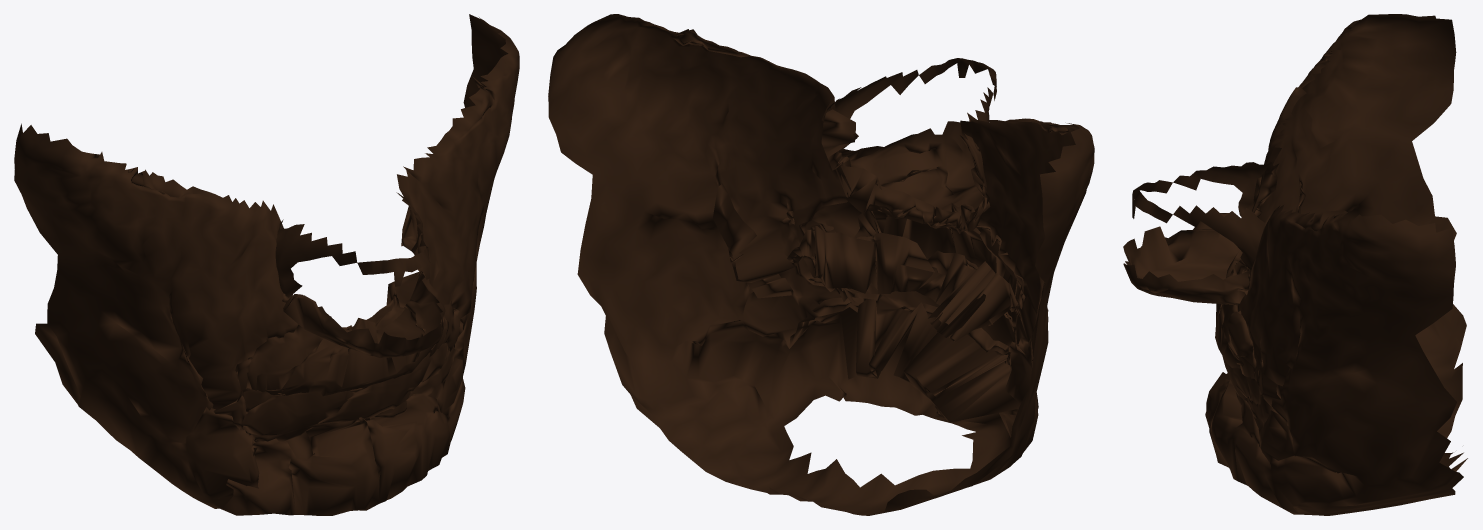
The model's file is kopf.bart.vollbart.glb.
3 renders of one model, left to right at view 1: azimuth 30°, elevation 25°; view 2: azimuth 150°, elevation 25°; view 3: azimuth 270°, elevation 25°, orthographic. The views are drawn at different scales.
Parts seen in each view (by area): view 1: bart; view 2: bart; view 3: bart.
Boxes of the visible parts, x1,y1,x2,y2 form: bart: [14, 14, 519, 515]; bart: [548, 14, 1094, 515]; bart: [1123, 14, 1467, 515].
Bounding box in the file's own units: 0.172 × 0.1322 × 0.1141.
